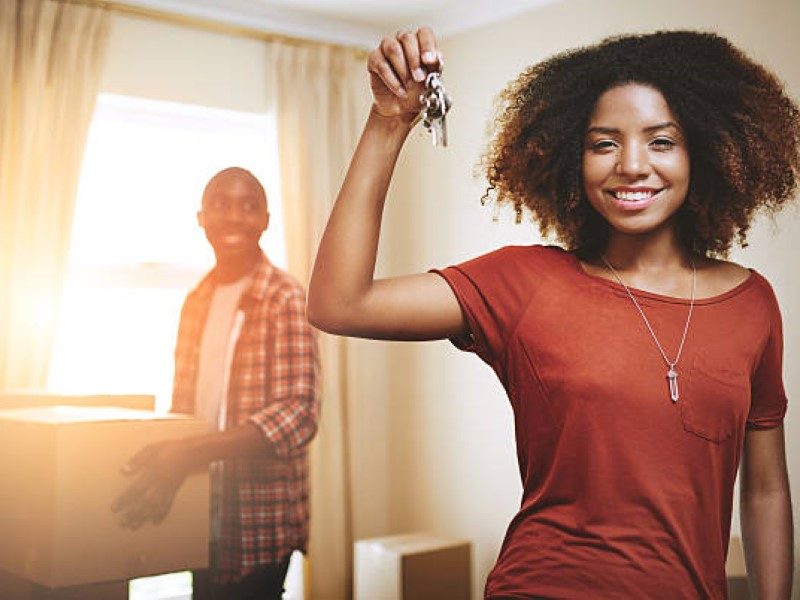key: (416, 71, 454, 150)
